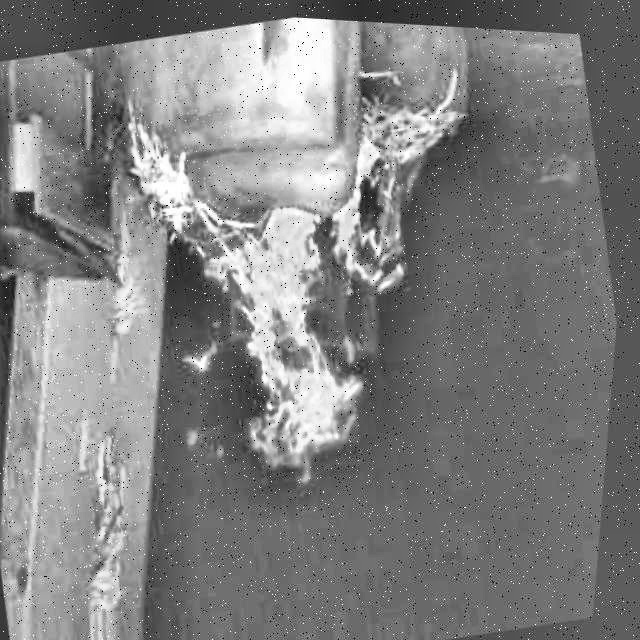Fire: (181, 118, 475, 499)
